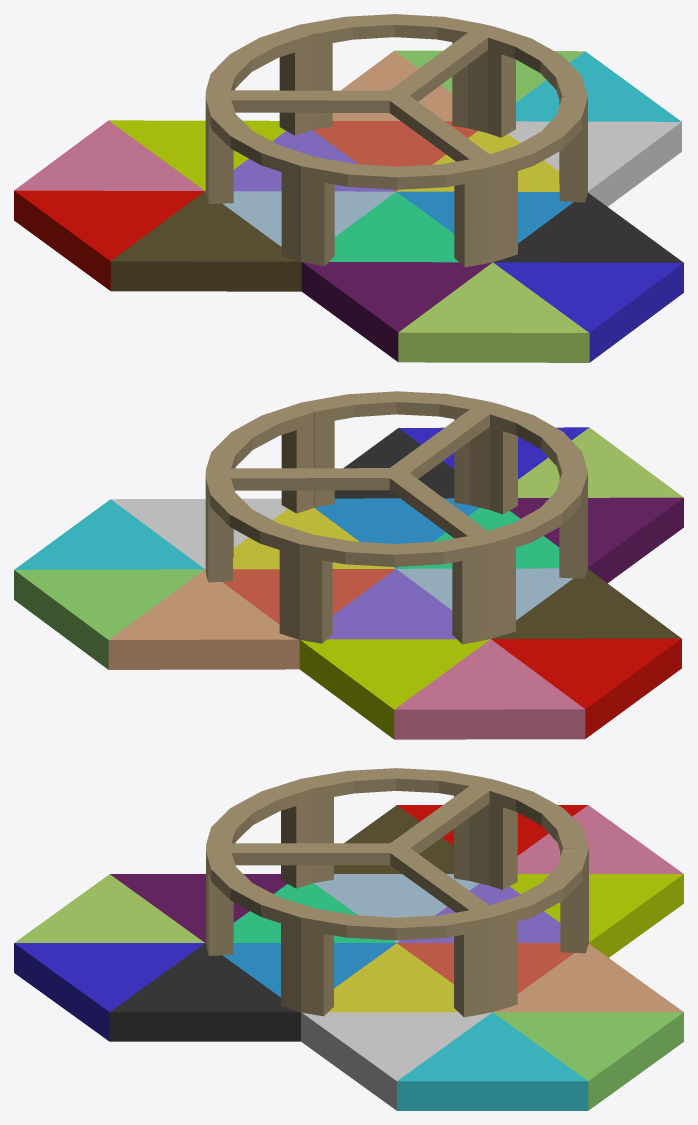
File: tile_temple_3tilesMerged.fbx
3 renders of one model, top to bottom at view 1: azimuth 30°, elevation 25°; view 2: azimuth 150°, elevation 25°; view 3: azimuth 270°, elevation 25°, orthographic.
Visible parts, largest first — view 1: temple; view 2: temple; view 3: temple.
Boxes of the visible parts, x1,y1,x2,y2 form: temple: (14, 14, 683, 362); temple: (14, 391, 683, 739); temple: (14, 768, 683, 1110).
Size of the model in its own units: 4000 by 841 by 4100.
